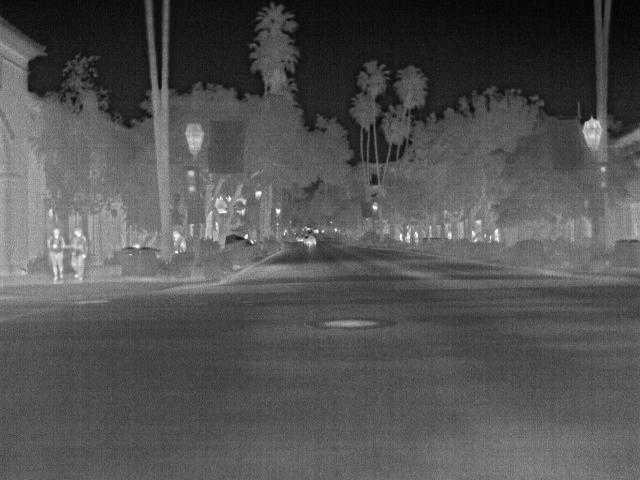car: (302, 234, 319, 248)
person: (66, 227, 88, 281), (46, 226, 67, 282), (171, 228, 188, 254), (490, 226, 503, 243)
